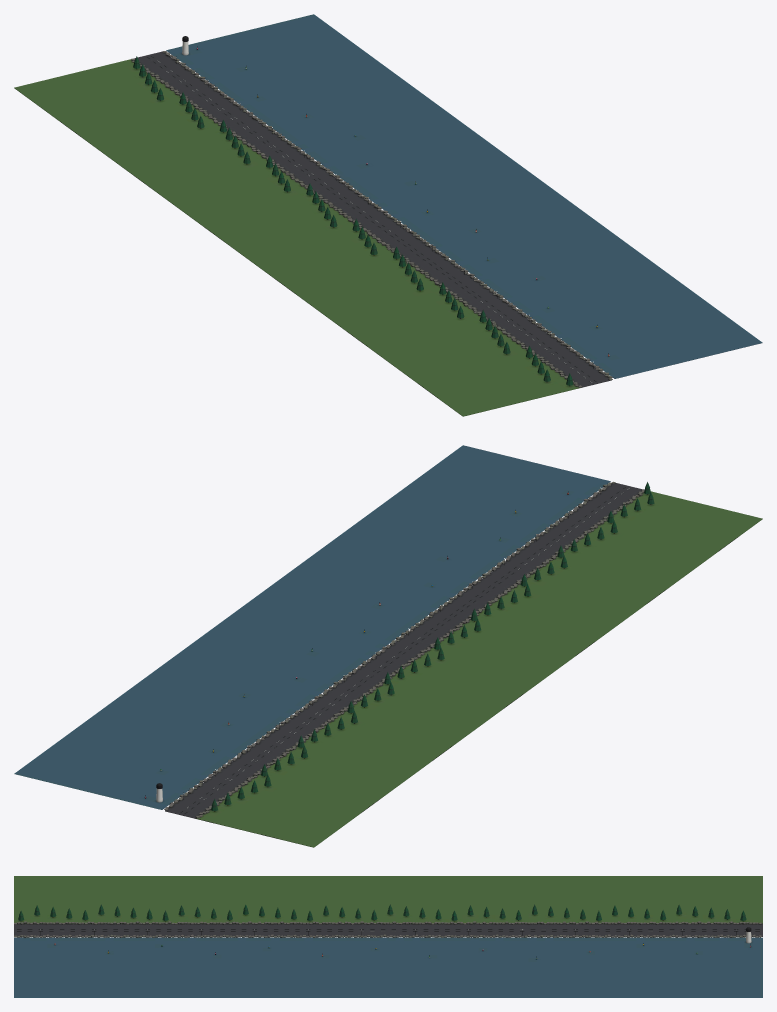
Rendered from costa_niebla.glb.
3 renders of one model, top to bottom at view 1: azimuth 30°, elevation 25°; view 2: azimuth 150°, elevation 25°; view 3: azimuth 270°, elevation 25°, orthographic. The views are drawn at different scales.
Visible parts, largest first — view 1: costa_niebla; view 2: costa_niebla; view 3: costa_niebla.
Part boxes in pixels (x1=…): costa_niebla: x1=14, y1=14, x2=762, y2=416; costa_niebla: x1=14, y1=445, x2=762, y2=847; costa_niebla: x1=14, y1=876, x2=762, y2=997.
Size of the model in its own units: 162 by 9.4 by 420.
1 material, 1 textured.
